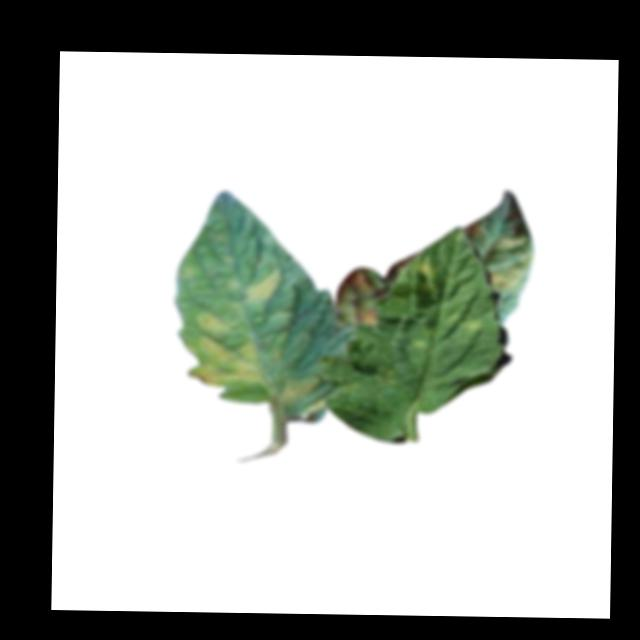Leaf_Mold: (186, 309, 273, 392), (335, 266, 388, 327), (484, 233, 534, 293), (244, 264, 286, 307), (278, 369, 328, 405), (408, 255, 444, 299)
